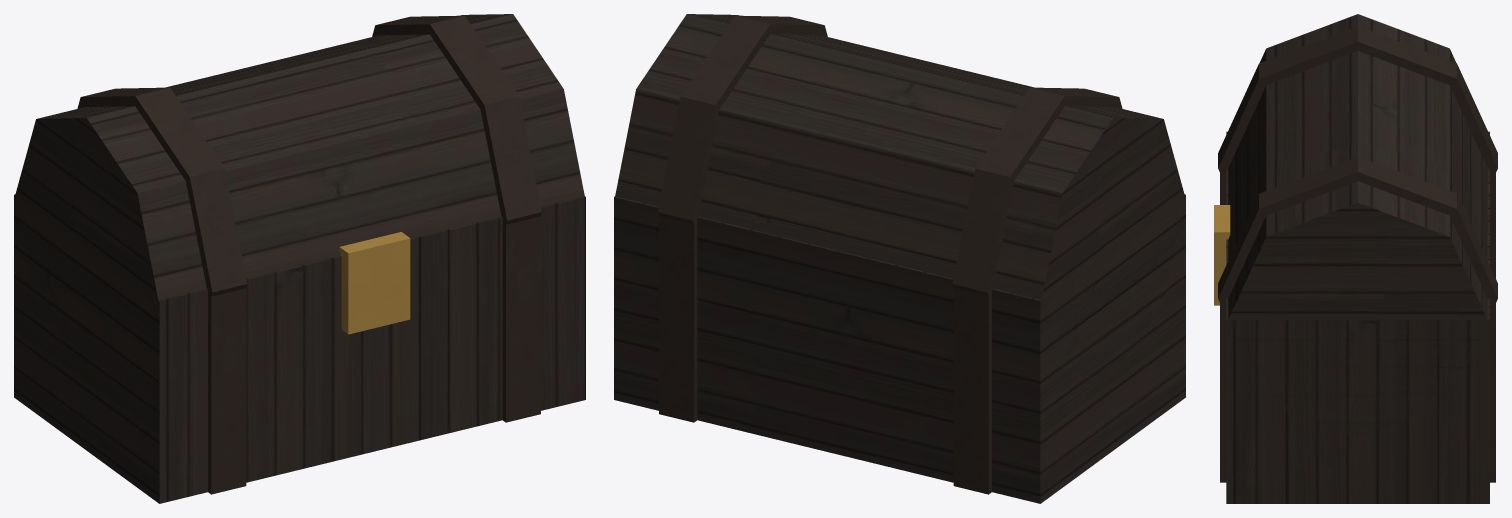
Rendered from chest_01.glb.
3 views of the same model, side by side, from view 1: azimuth 30°, elevation 25°; view 2: azimuth 150°, elevation 25°; view 3: azimuth 270°, elevation 25° (orthographic). The views are drawn at different scales.
Parts seen in each view (by area): view 1: chest_01; view 2: chest_01; view 3: chest_01.
Boxes of the visible parts, x1,y1,x2,y2 form: chest_01: [14, 14, 585, 503]; chest_01: [614, 14, 1185, 503]; chest_01: [1214, 14, 1497, 503].
Bounding box in the file's own units: 1.1 × 0.845 × 0.7.
3 materials, 3 textured.
